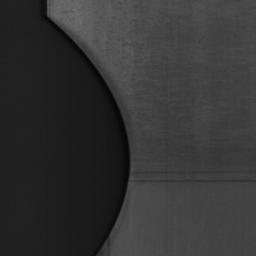Crescent gap: (48, 17, 131, 256)
